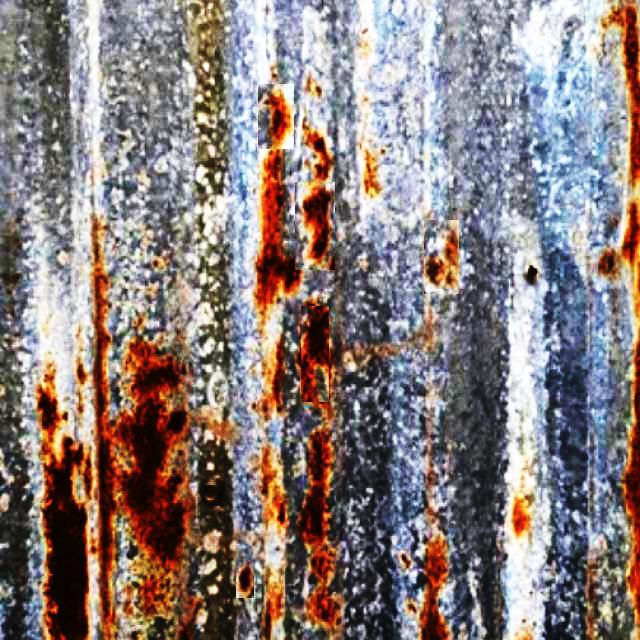Corrosion: (115, 341, 186, 570), (92, 217, 115, 640), (624, 5, 640, 584), (43, 440, 86, 640), (256, 149, 300, 310), (300, 432, 331, 546), (299, 306, 331, 406), (421, 537, 449, 640), (304, 188, 331, 260)
